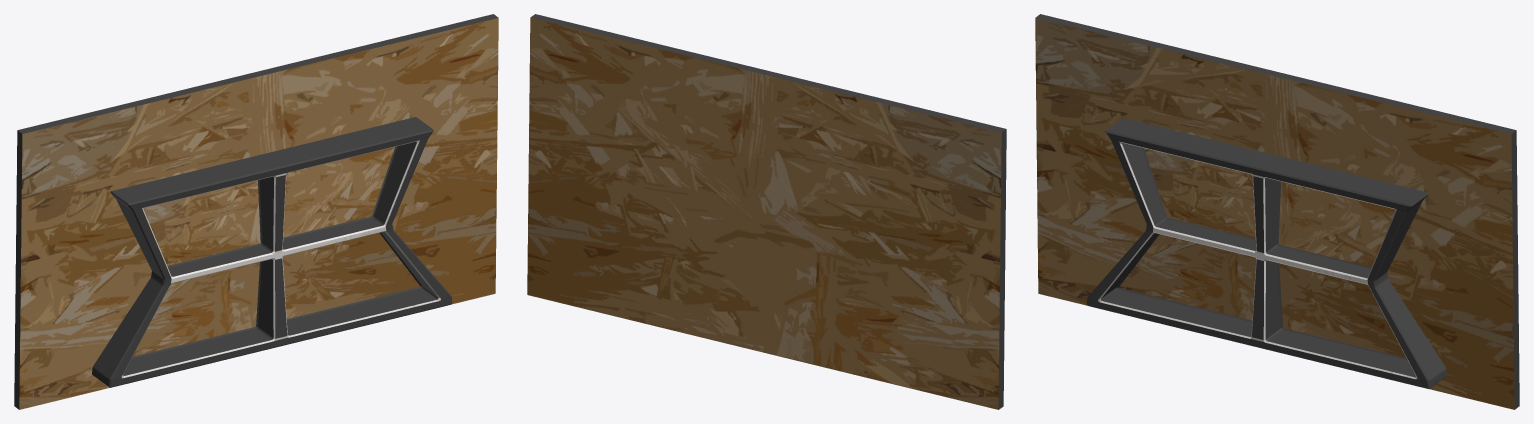
Rendered from shelf.fbx.
The picture shows the model from 3 angles, left to right: view 1: azimuth 30°, elevation 25°; view 2: azimuth 150°, elevation 25°; view 3: azimuth 330°, elevation 25°; orthographic projection.
Visible parts, largest first — view 1: pCube5, shelfs; view 2: pCube5; view 3: pCube5, shelfs.
Part boxes in pixels (left/top/right/bottom): pCube5: left=14, top=14, right=498, bottom=409; shelfs: left=92, top=117, right=452, bottom=387; pCube5: left=527, top=14, right=1006, bottom=409; pCube5: left=1035, top=14, right=1519, bottom=409; shelfs: left=1087, top=118, right=1447, bottom=388.
Size of the model in its own units: 55.46 by 30.96 by 5.33.
